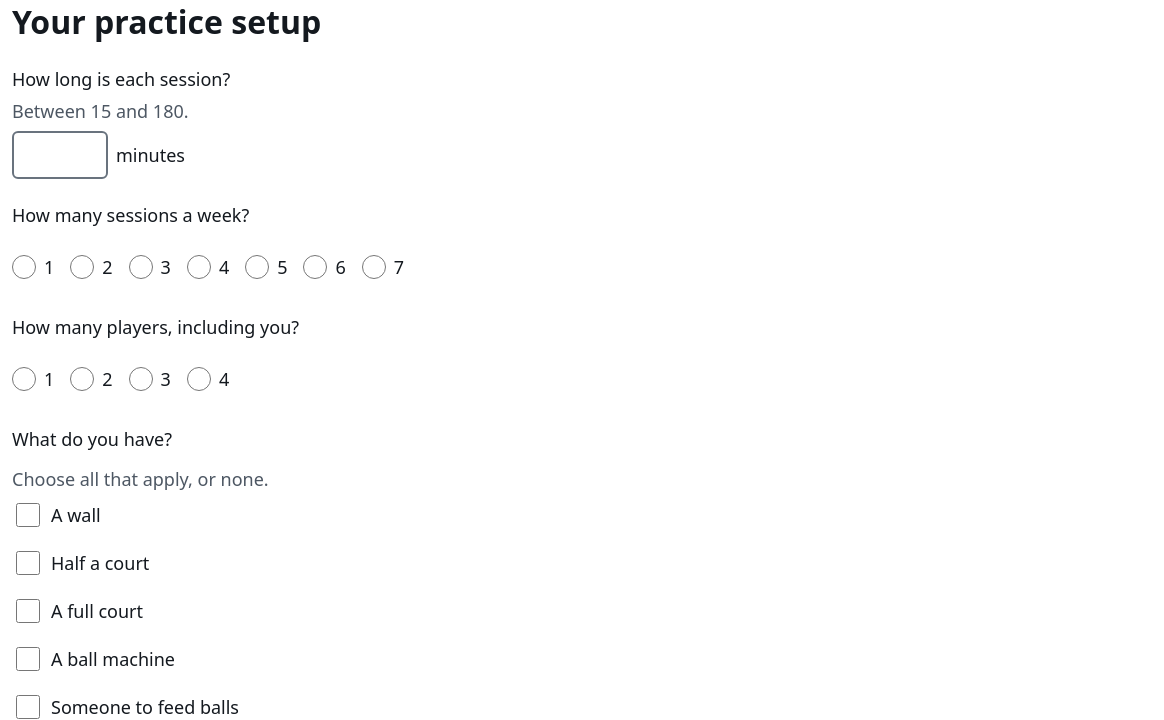
Test case: P-02 refusals keep the answers › a server error shows the reference
The width and height of the screenshot is (1164, 720).
Type "30" into the field labelled "How long is each session?" at [60, 155], box [12,131,108,179]
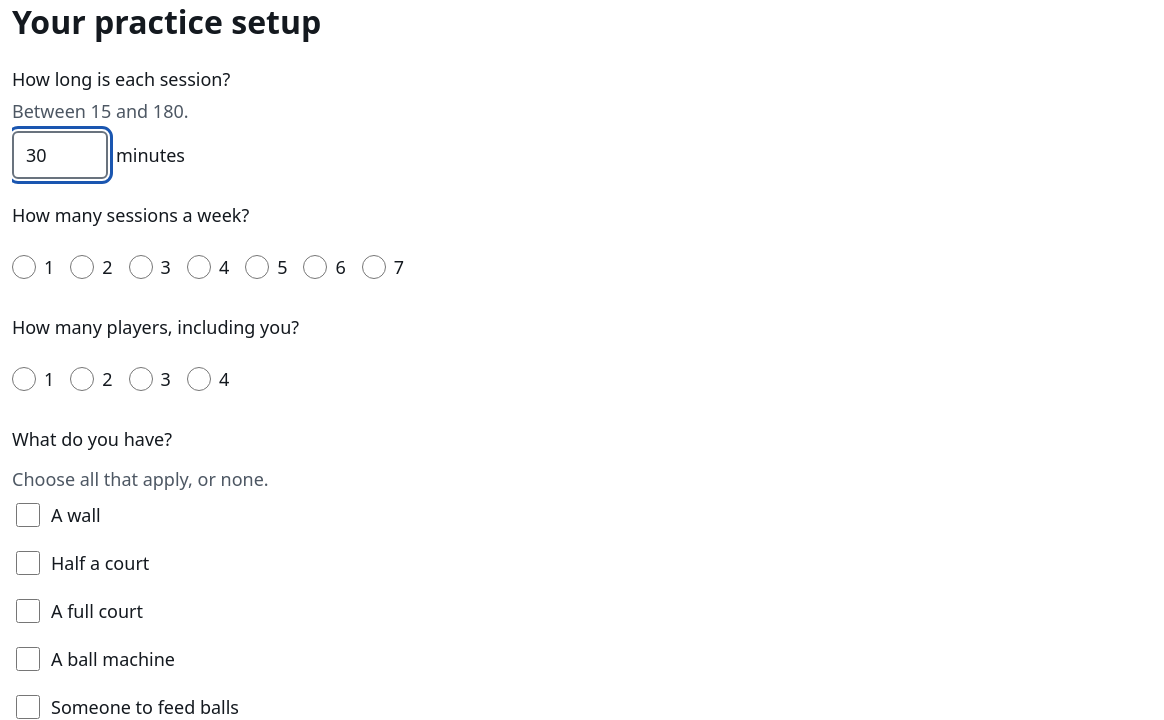
Click the radio button labelled "3" below "How many sessions a week?" at [141, 267], box [129,255,153,279]
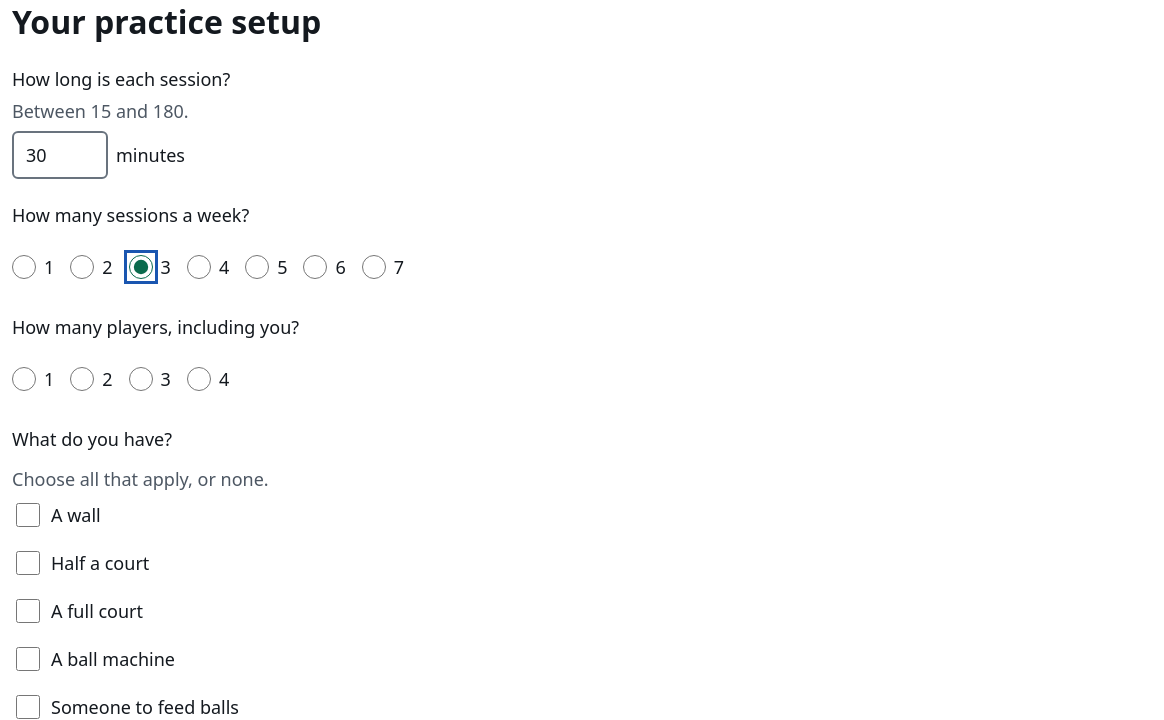
Click the radio button labelled "1" below "How many players, including you?" at [24, 379], box [12,367,36,391]
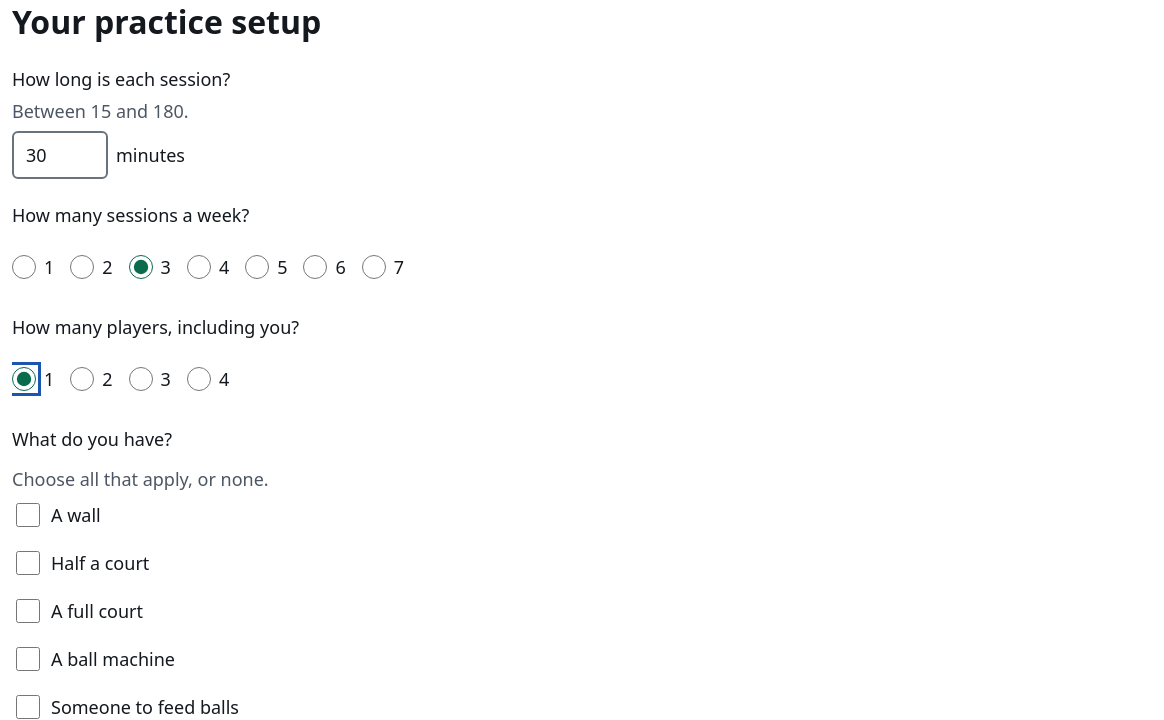
Click the checkbox labelled "A wall" at [28, 515], box [16,503,40,527]
(page scrolled)
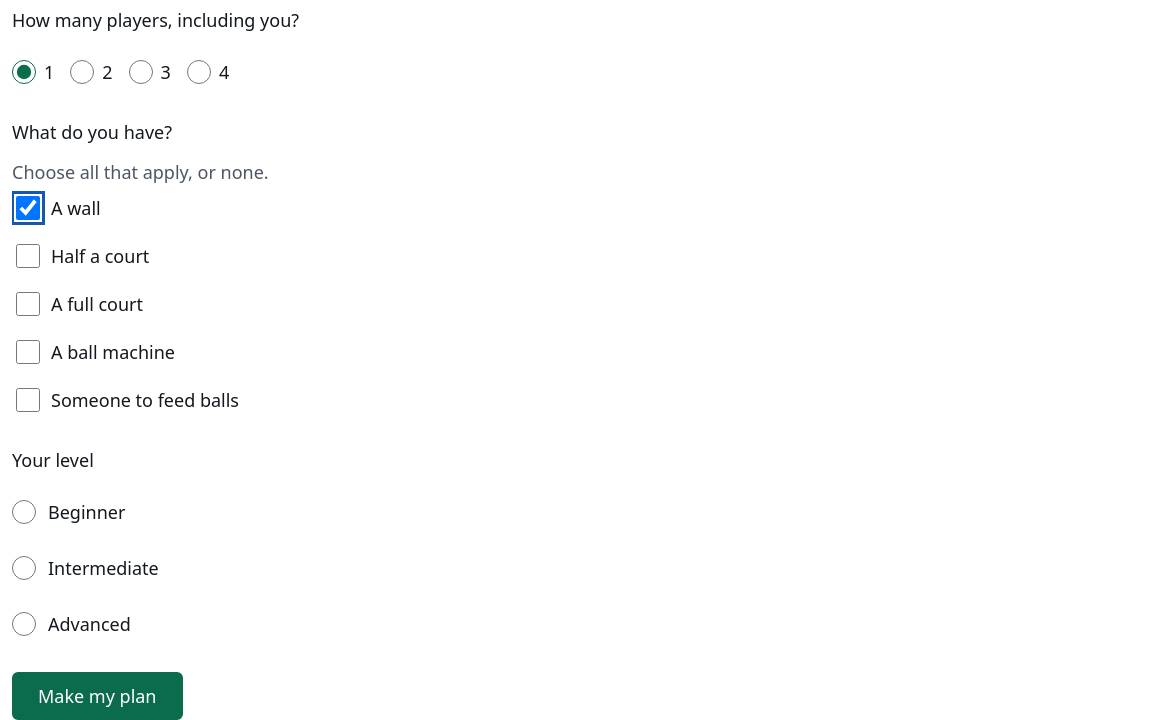
Click the radio button labelled "Intermediate" at [24, 568], box [12,556,36,580]
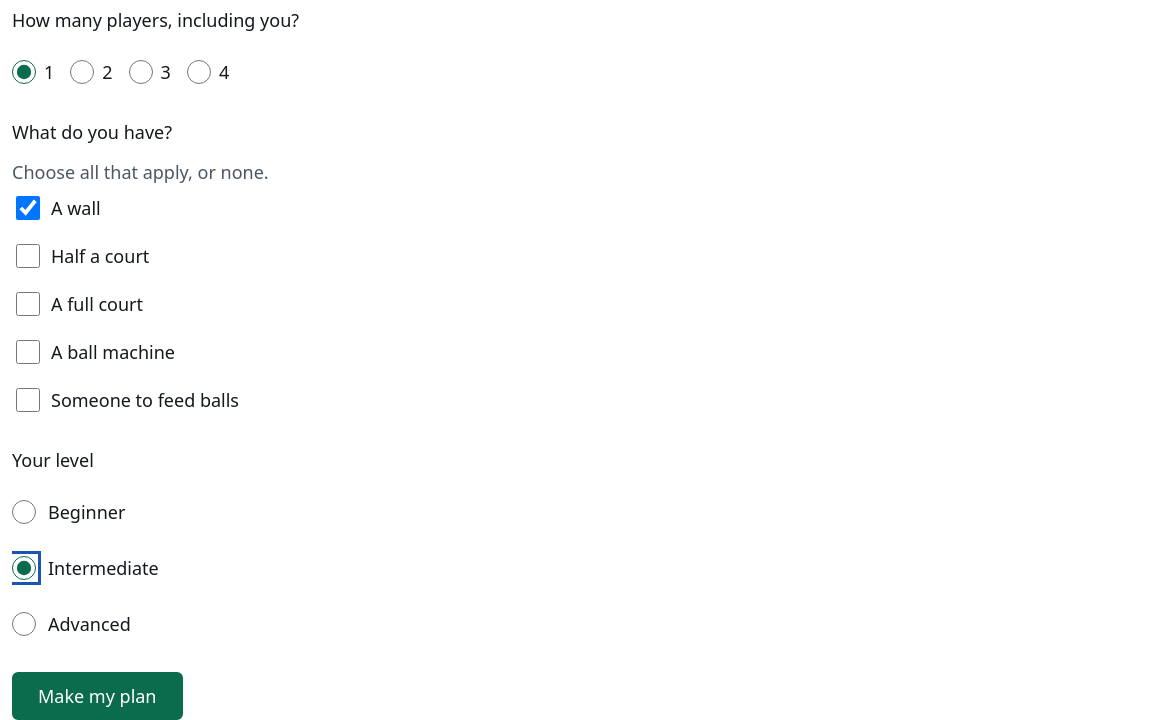
Click the button "Make my plan" at [97, 696], box [12,672,182,719]
(page scrolled)
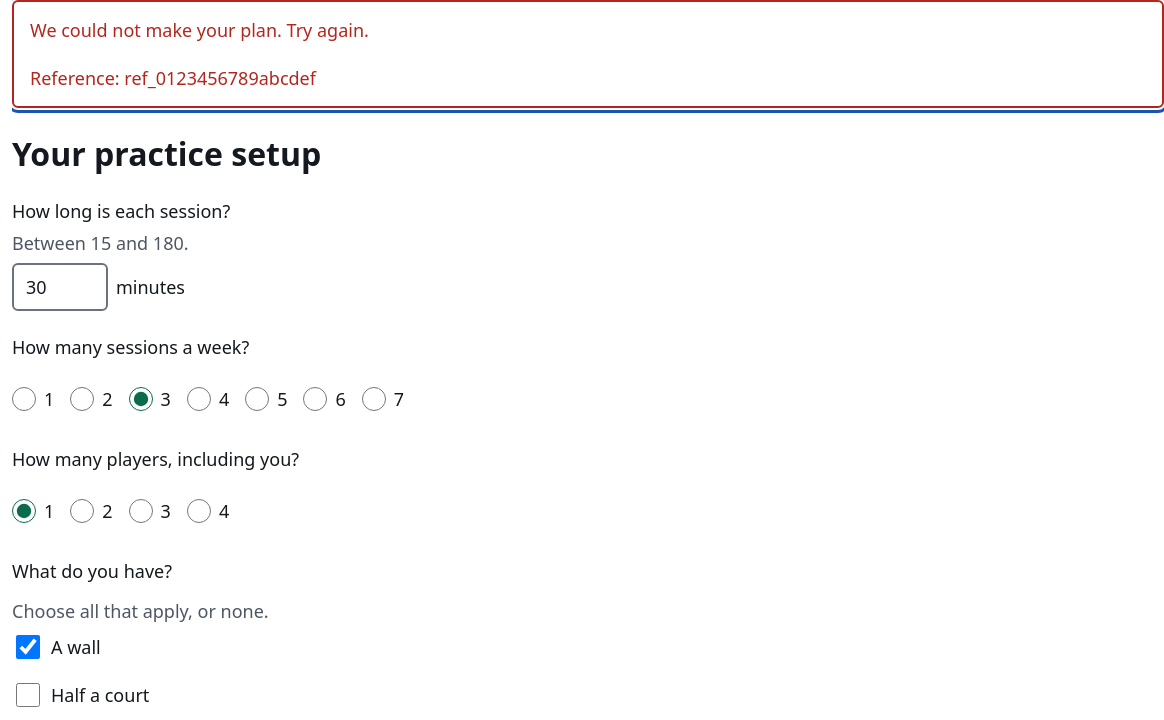
Expected: the message shows "Reference: ref_0123456789abcdef", [12,0,1163,108]
